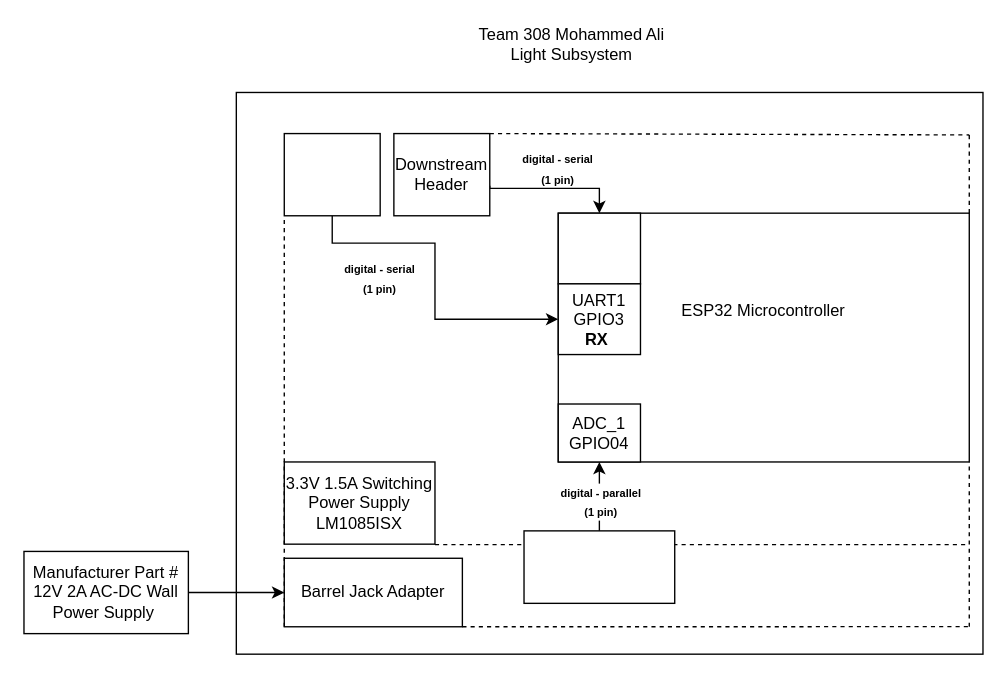
Some shapes in this 1007 by 678 pixel diagram are drawn without their labels. The shapes that lost their labels are listed below. From the top down, each one's centre as x and y in pixels, then its label:
At pixel 331 174: "Upstream Header".
At pixel 598 248: "UART1 GPIO1 TX".
At pixel 599 566: "Photoresistor(LDR)".
